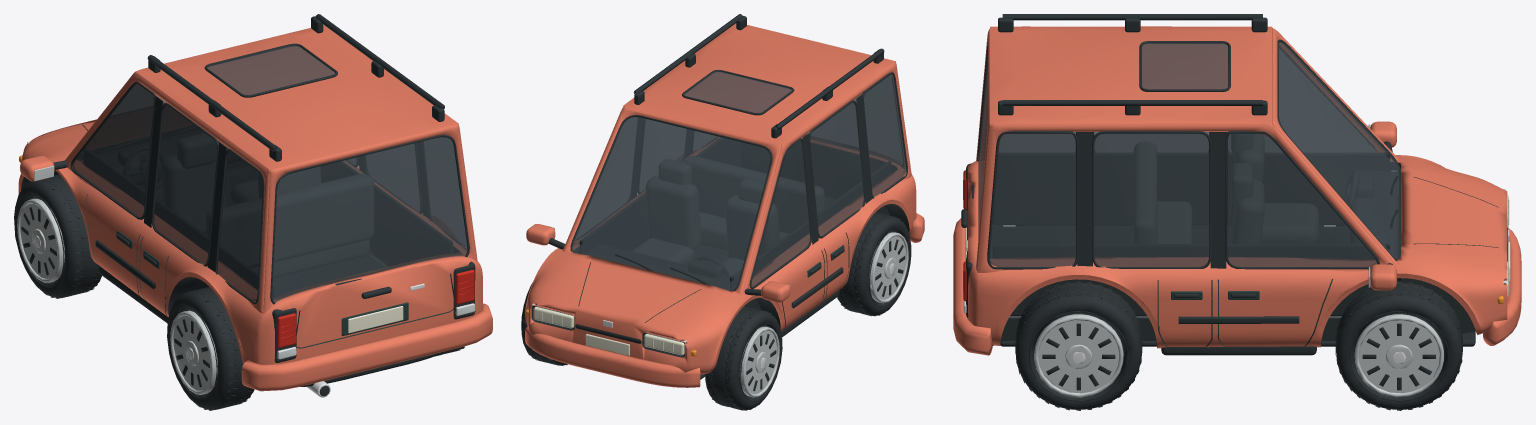
The model's file is picnic_lod1.fbx.
3 views of the same model, side by side, from view 1: azimuth 30°, elevation 25°; view 2: azimuth 150°, elevation 25°; view 3: azimuth 270°, elevation 25° (orthographic). The views are drawn at different scales.
Parts seen in each view (by area): view 1: Body, Wheel_FL_Mesh, Wheel_RL_Mesh; view 2: Body, Wheel_FL_Mesh, Wheel_RL_Mesh, Wheel_FR_Mesh; view 3: Body, Wheel_RR_Mesh, Wheel_FR_Mesh.
Boxes of the visible parts, left/top/right/bottom form: Body: left=18, top=14, right=492, bottom=397; Wheel_FL_Mesh: left=14, top=174, right=101, bottom=298; Wheel_RL_Mesh: left=167, top=286, right=254, bottom=410; Body: left=525, top=14, right=924, bottom=387; Wheel_FL_Mesh: left=705, top=306, right=782, bottom=410; Wheel_RL_Mesh: left=837, top=212, right=911, bottom=316; Wheel_FR_Mesh: left=521, top=282, right=567, bottom=365; Body: left=953, top=14, right=1521, bottom=355; Wheel_RR_Mesh: left=1015, top=281, right=1142, bottom=410; Wheel_FR_Mesh: left=1335, top=281, right=1462, bottom=410.
Size of the model in its own units: 232 by 202 by 358.
